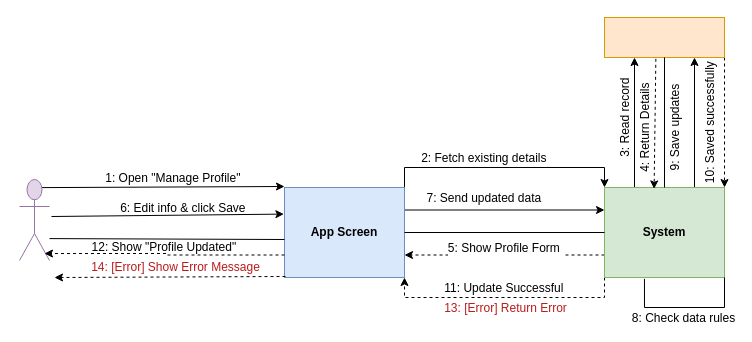
The diagram is 752 pixels wide and 342 high, and some of its shapes have lost their labels. Each missing label, with the centre of its shape:
Database: (664,37)
Doctor: (34,219)
